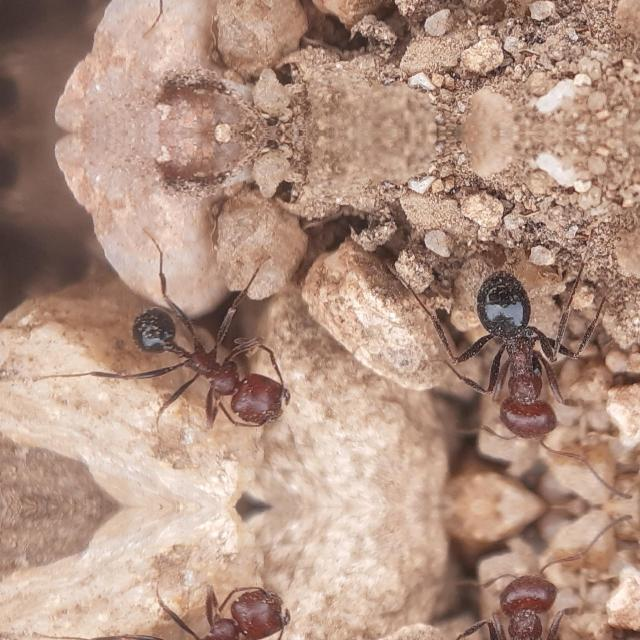Messor: (124, 292, 290, 432), (452, 269, 570, 455), (124, 579, 289, 640), (451, 557, 570, 640)
